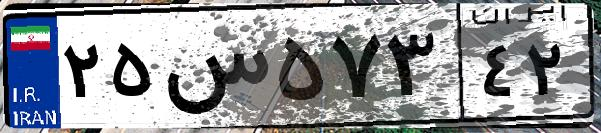2: (57, 26, 110, 100), (525, 38, 570, 115)
3: (385, 28, 445, 110)
4: (475, 38, 525, 113)
5: (270, 28, 330, 110), (110, 28, 158, 98)
7: (330, 28, 385, 110)
س: (158, 20, 270, 120)
